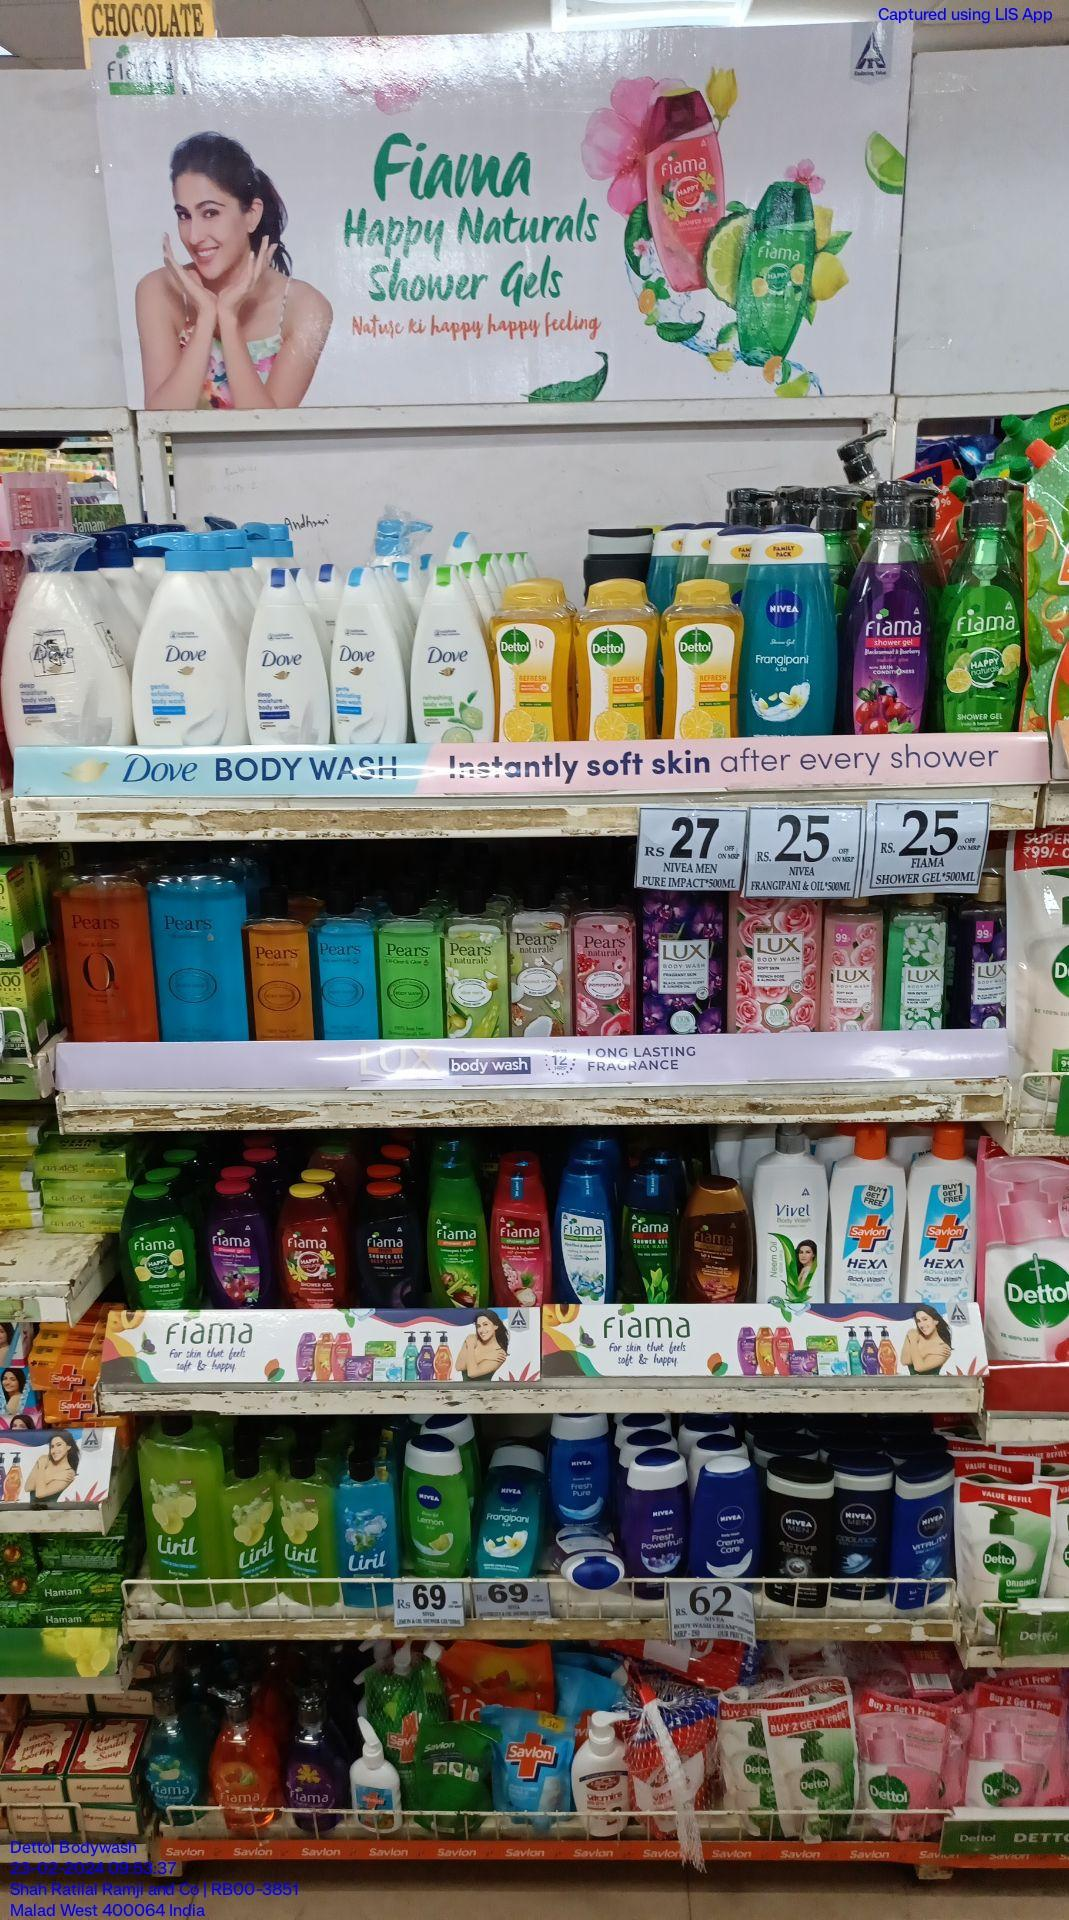Dettol_Bodywash_Refresh: (579, 578, 658, 747), (662, 579, 744, 741), (502, 579, 575, 741)
Dove_Deep_Moisture_Body_Wash_250ML: (246, 567, 329, 750)
Dove_Gentle_Exfoliating_Body_Wash_250ML: (333, 565, 412, 747)
Dove_Refreshing_Body_Wash_250ML: (409, 559, 496, 754)
Liril_Cooling_Mint_Body_Wash_250ML: (337, 1454, 404, 1611)
Liril_Lime_and_Tea_Tree_Oil_Body_Wash_250ML: (276, 1454, 336, 1615), (221, 1458, 279, 1605)
Lux_Black_Orchid_Scent_and_Juniper_Oil_Body_Wash_245ML: (956, 888, 1008, 1034)
Lux_Body_Wash_Skin_Detox_Freesia_Scent_and_Alove_Vera_245ML: (887, 895, 945, 1030)
Nivea_Creme_Care_Body_Wash_250ML: (692, 1462, 760, 1580)
Nivea_Shower_Gel_Frangipani_and_Oil_250ML: (748, 524, 839, 737)
Nivea_Shower_Gel_Fresh_Powerfruit_250ML: (628, 1458, 692, 1592)
Nivea_Shower_Gel_Lemon_and_Oil_250ML: (403, 1438, 467, 1580)
Pears_Naturale_Aloe_Vera_Body_Wash_250ML: (444, 886, 509, 1034)
Pears_Pure_Glycerin_and_Lemon_Flower_Extracts_Body_Wash_250ML: (378, 888, 445, 1042)
Pears_Pure_Glycerin_and_Mint_Extracts_Body_Wash_250ML: (312, 888, 379, 1038)
